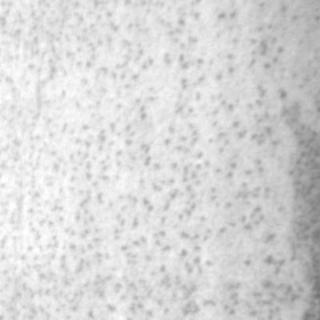pitted_surface: (5, 0, 291, 318), (270, 85, 318, 317)
